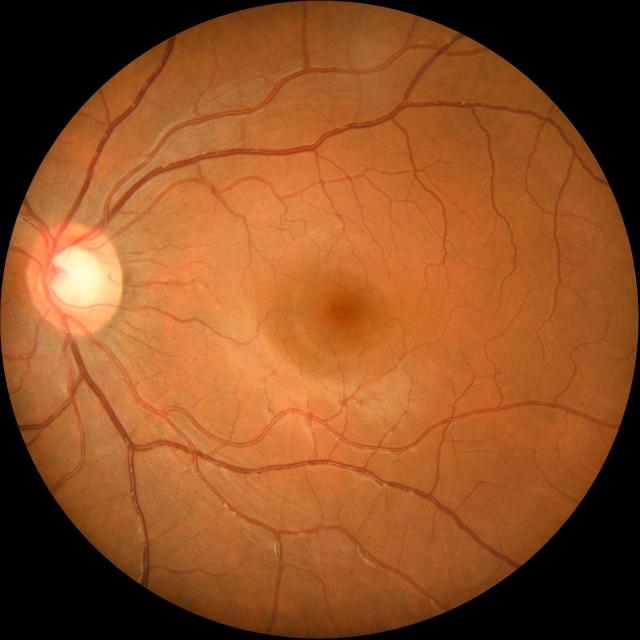OC: (45, 247, 104, 312)
OD: (27, 223, 121, 333)
